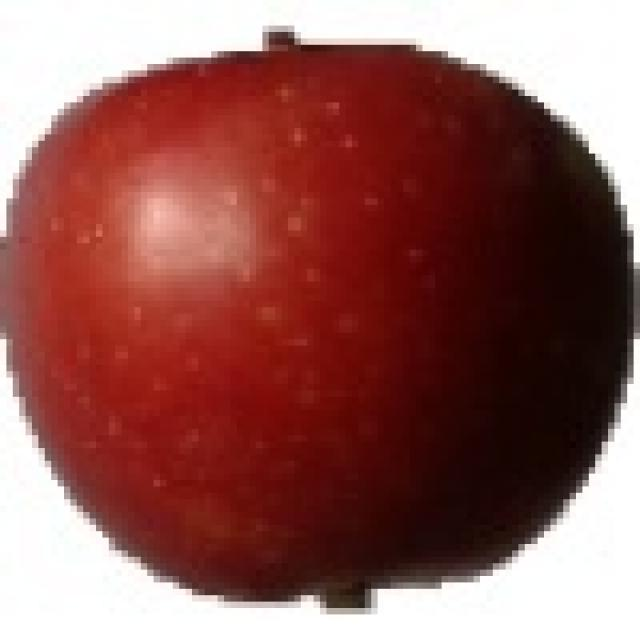apple: (2, 28, 638, 609)
